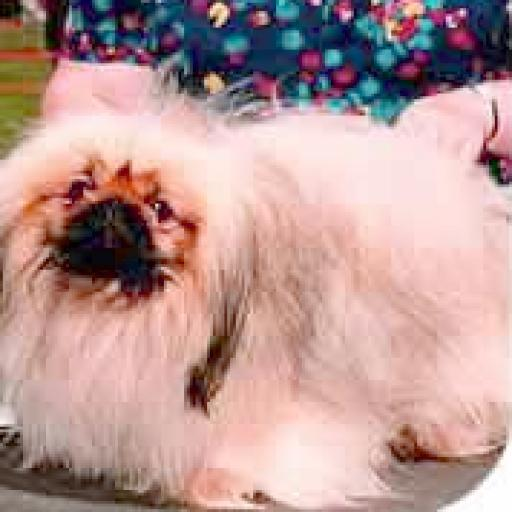dog_face: (0, 121, 247, 333)
